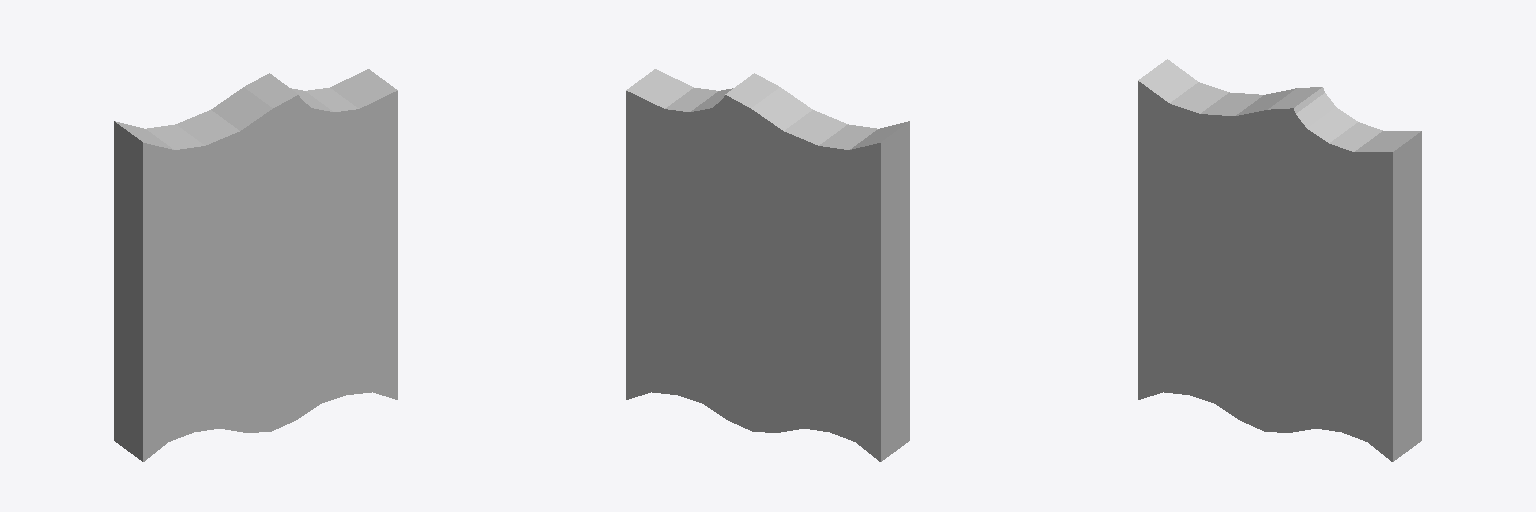
File: saloonDoor1.obj
3 renders of one model, left to right at view 1: azimuth 30°, elevation 25°; view 2: azimuth 150°, elevation 25°; view 3: azimuth 330°, elevation 25°, orthographic.
Visible parts, largest first — view 1: Cube; view 2: Cube; view 3: Cube.
Boxes of the visible parts, <box> form: Cube: <box>114,69,397,461</box>; Cube: <box>626,69,909,461</box>; Cube: <box>1138,59,1421,461</box>.
Size of the model in its own units: 1 by 1.24 by 0.2.